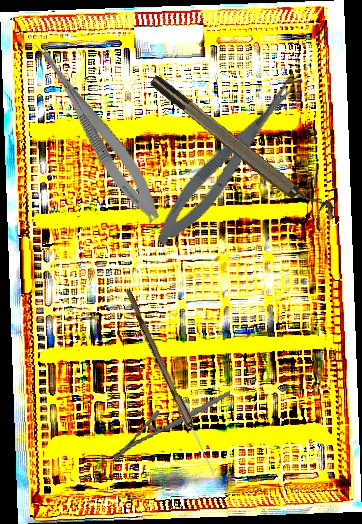Fixation Ring: (146, 63, 340, 233)
Micro Scissor: (145, 70, 311, 253), (22, 35, 169, 227)
Needle Holder: (105, 390, 239, 462)
Surgical Spoon: (121, 289, 219, 475)
